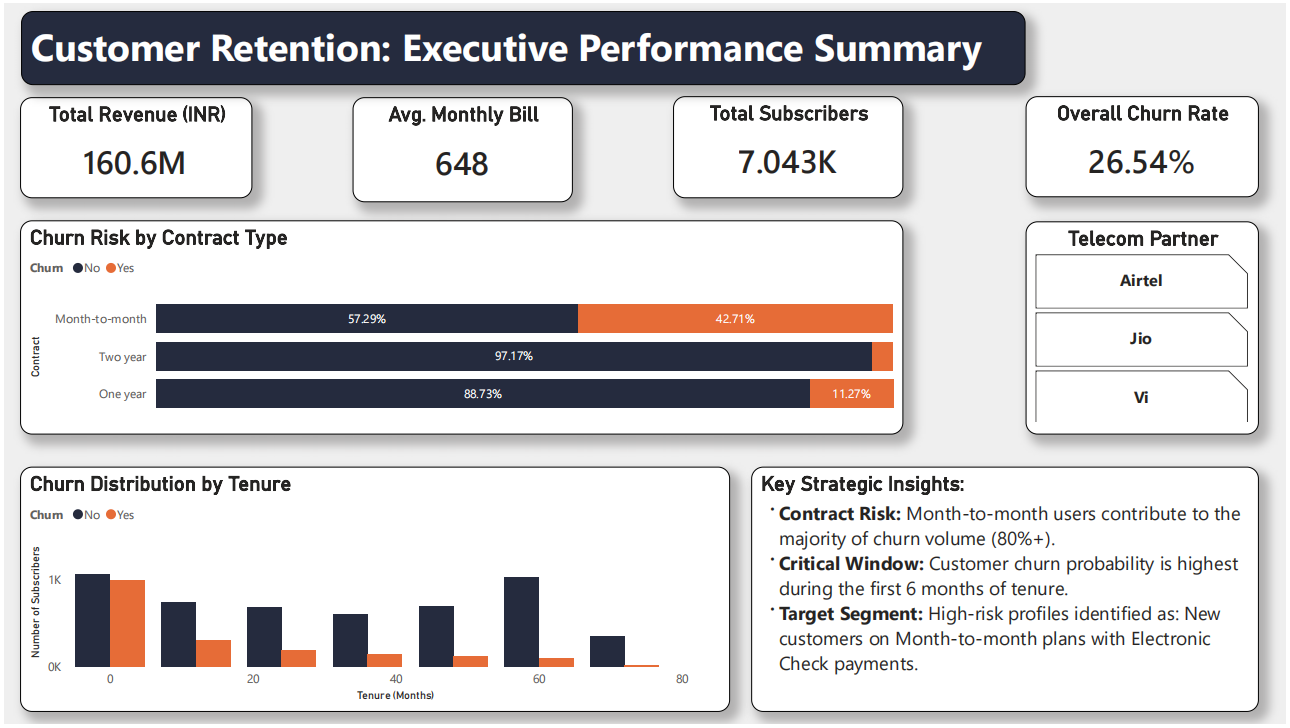

What the dashboard file says about the page in this screenshot:
{"tool":"powerbi","page":{"name":"Page 1","canvas":[1280,720],"ordinal":0},"visuals":[{"type":"cardVisual","title":"Total Subscribers","fields":{"Data":["Count(WA_Fn-UseC_-Telco-Customer-Chur.customerID)"]},"box":[667.5,92.5,230,102.5],"z":0},{"type":"cardVisual","title":"Total Revenue (INR)","fields":{"Data":["Sum(WA_Fn-UseC_-Telco-Customer-Chur.Total Paid (INR))"]},"box":[16.2,93.8,231.2,101.2],"z":1000},{"type":"cardVisual","title":"Avg. Monthly Bill","fields":{"Data":["Avg(WA_Fn-UseC_-Telco-Customer-Chur.Monthly Bill (INR))"]},"box":[347.5,93.8,220,105],"z":2000},{"type":"hundredPercentStackedBarChart","title":"Churn Risk by Contract Type","fields":{"Category":["WA_Fn-UseC_-Telco-Customer-Chur.Contract"],"Y":["Count(WA_Fn-UseC_-Telco-Customer-Chur.customerID)"],"Series":["WA_Fn-UseC_-Telco-Customer-Chur.Churn"]},"box":[15.7,217.2,881.9,213.5],"z":3000},{"type":"clusteredColumnChart","title":"Churn Distribution by Tenure","fields":{"Category":["WA_Fn-UseC_-Telco-Customer-Chur.tenure (bins)"],"Y":["Count(WA_Fn-UseC_-Telco-Customer-Chur.customerID)"],"Series":["WA_Fn-UseC_-Telco-Customer-Chur.Churn"]},"box":[16.2,462.5,708.8,245],"z":4000},{"type":"advancedSlicerVisual","fields":{"Values":["WA_Fn-UseC_-Telco-Customer-Chur.Telecom Partner"]},"box":[1020,217.5,232.5,213.8],"z":5000},{"type":"textbox","box":[16.7,8.3,1003.3,73.3],"z":6000},{"type":"cardVisual","title":"Overall Churn Rate","fields":{"Data":["WA_Fn-UseC_-Telco-Customer-Chur.Churn Rate%"]},"box":[1020,92.5,232.5,101.2],"z":7000},{"type":"textbox","title":"Key Strategic Insights:","box":[746.2,462.5,506.2,245],"z":8000}]}

Visuals, with their boxes in screenshot pixels (x1, y1, x2, y2), scaled from the page's 1280x720 canvas onto the 1290x728 screenshot:
"Total Subscribers" cardVisual: {"x1": 673, "y1": 94, "x2": 905, "y2": 197}
"Total Revenue (INR)" cardVisual: {"x1": 16, "y1": 95, "x2": 249, "y2": 197}
"Avg. Monthly Bill" cardVisual: {"x1": 350, "y1": 95, "x2": 572, "y2": 201}
"Churn Risk by Contract Type" hundredPercentStackedBarChart: {"x1": 16, "y1": 220, "x2": 905, "y2": 435}
"Churn Distribution by Tenure" clusteredColumnChart: {"x1": 16, "y1": 468, "x2": 731, "y2": 715}
advancedSlicerVisual - WA_Fn-UseC_-Telco-Customer-Chur.Telecom Partner: {"x1": 1028, "y1": 220, "x2": 1262, "y2": 436}
textbox: {"x1": 17, "y1": 8, "x2": 1028, "y2": 83}
"Overall Churn Rate" cardVisual: {"x1": 1028, "y1": 94, "x2": 1262, "y2": 196}
"Key Strategic Insights:" textbox: {"x1": 752, "y1": 468, "x2": 1262, "y2": 715}
